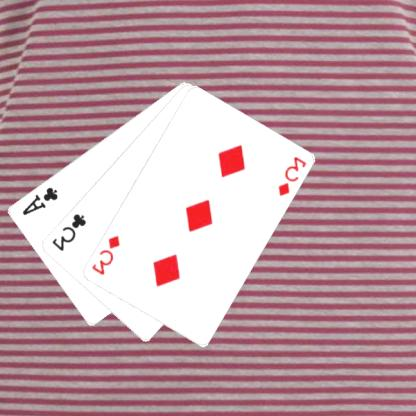3C: (50, 211, 89, 253)
3D: (90, 232, 123, 277), (277, 153, 309, 198)
AC: (21, 184, 61, 217)
